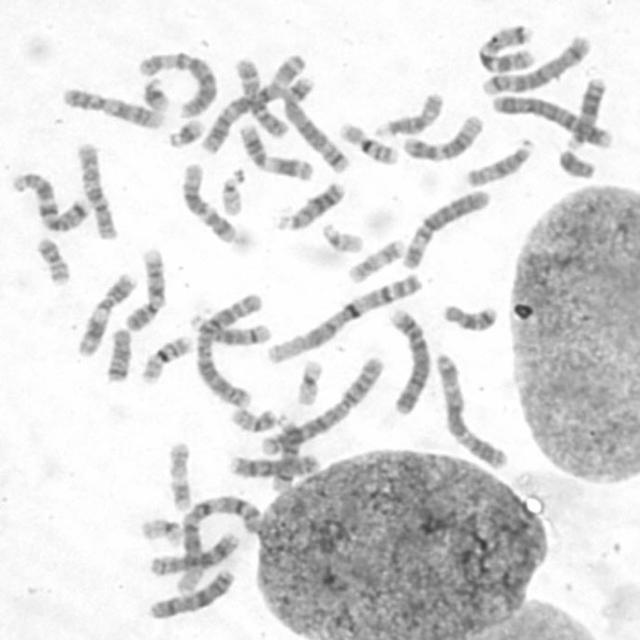A1: (263, 270, 426, 366), (172, 490, 265, 598)
A2: (256, 352, 386, 455), (193, 288, 264, 410)
A3: (197, 48, 308, 156), (431, 348, 510, 470)
B4: (487, 91, 615, 150), (385, 304, 433, 414)
B5: (280, 72, 353, 174), (480, 31, 593, 96)
C10: (73, 139, 120, 241), (232, 55, 288, 138)
C11: (72, 268, 138, 359), (235, 120, 315, 181)
C12: (178, 160, 240, 246), (400, 112, 486, 163)
C6: (399, 186, 492, 272), (135, 49, 219, 118)
C7: (8, 169, 92, 234), (474, 21, 537, 75)
C8: (147, 529, 240, 577), (225, 448, 323, 479)
C9: (58, 84, 167, 131), (121, 244, 168, 334)
D13: (270, 180, 346, 232), (564, 75, 608, 152)
D14: (185, 309, 274, 347), (269, 416, 302, 494)
D15: (462, 134, 536, 189), (372, 89, 446, 138)
E16: (136, 332, 194, 385), (337, 118, 401, 165)
E17: (343, 235, 406, 285), (163, 438, 194, 513)
E18: (439, 300, 498, 334), (103, 324, 134, 384)
F19: (137, 512, 184, 548), (294, 355, 326, 407)
F20: (33, 234, 72, 286), (228, 403, 279, 434)
G21: (164, 114, 205, 150), (139, 73, 172, 114)
G22: (318, 219, 366, 255), (219, 166, 247, 216)
X: (144, 564, 237, 622)
Y: (556, 147, 597, 180)
